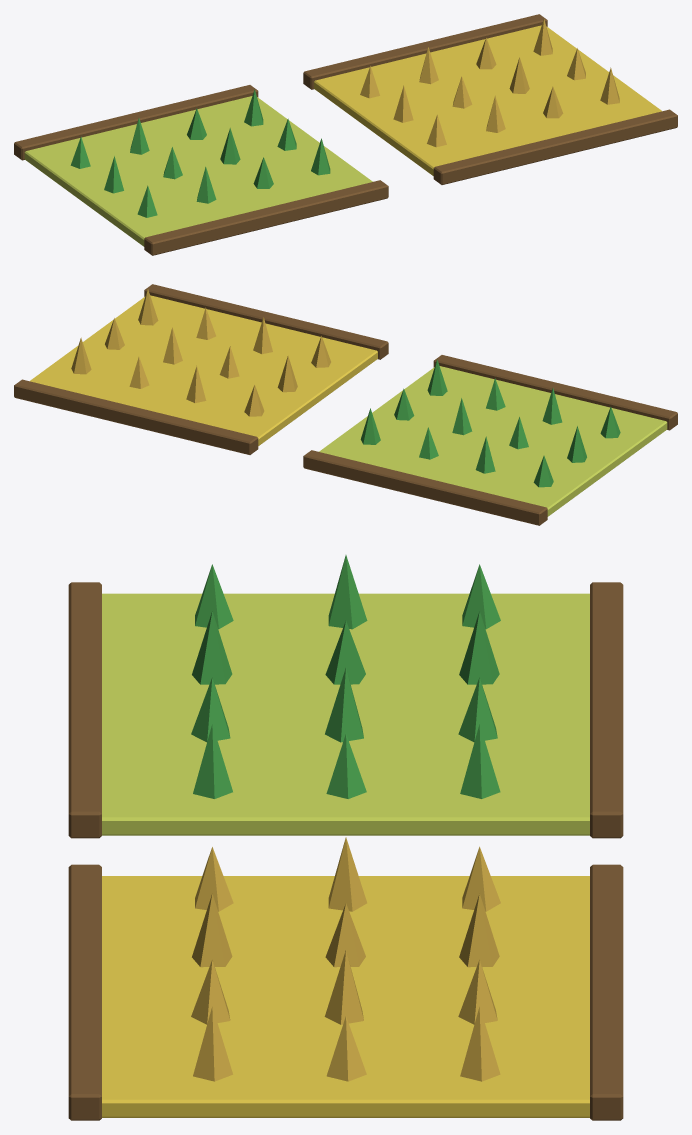
Rendered from petak_ladang_v001.glb.
3 renders of one model, top to bottom at view 1: azimuth 30°, elevation 25°; view 2: azimuth 150°, elevation 25°; view 3: azimuth 270°, elevation 25°, orthographic. The views are drawn at different scales.
Parts seen in each view (by area): view 1: Petak_Ladang_A, Petak_Ladang_B; view 2: Petak_Ladang_A, Petak_Ladang_B; view 3: Petak_Ladang_A, Petak_Ladang_B.
Boxes of the visible parts, <box> form: Petak_Ladang_A: <box>14,85,388,255</box>; Petak_Ladang_B: <box>303,14,677,184</box>; Petak_Ladang_A: <box>303,355,677,525</box>; Petak_Ladang_B: <box>14,284,388,454</box>; Petak_Ladang_A: <box>68,555,623,838</box>; Petak_Ladang_B: <box>68,837,623,1120</box>.
Bounding box in the file's own units: 9.1 × 0.7001 × 4.15.
